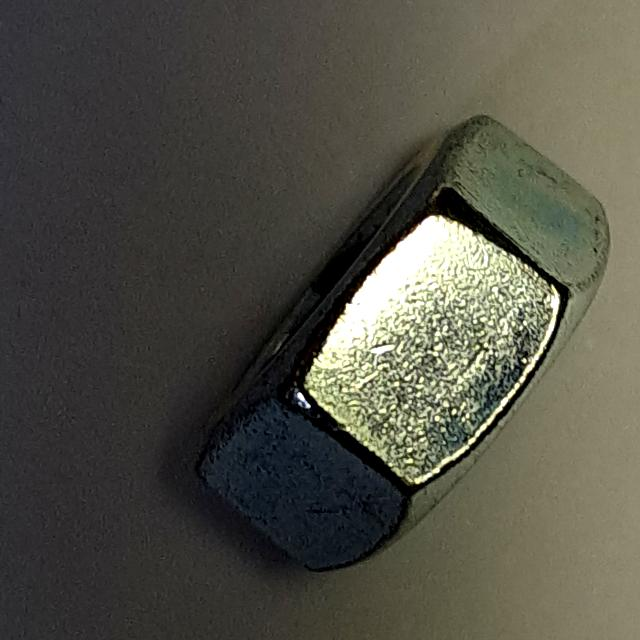Side_Excellent: (173, 102, 622, 586)
